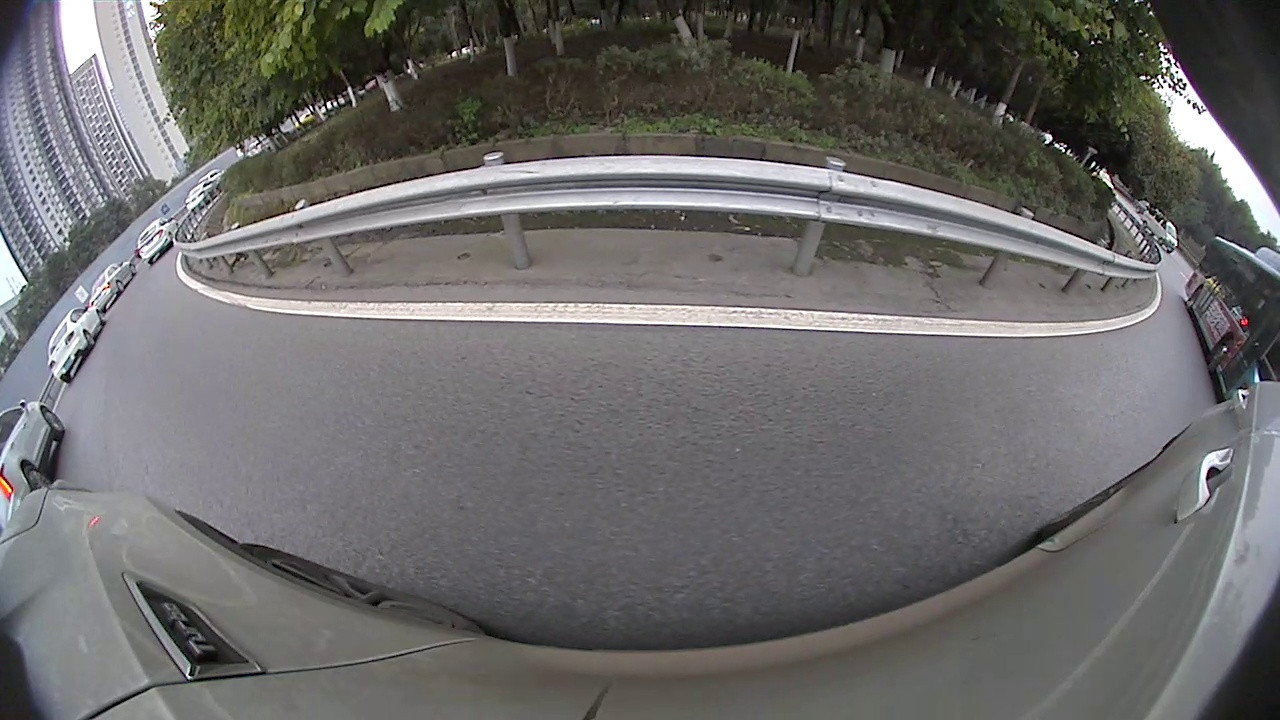bus: (1182, 228, 1278, 411)
car: (1, 398, 69, 527), (43, 303, 111, 387), (90, 257, 138, 309), (136, 214, 183, 266), (1138, 201, 1179, 256)
front: (1205, 334, 1237, 374), (40, 407, 68, 438), (95, 309, 110, 325)
rear: (21, 463, 54, 492), (1183, 286, 1203, 310), (82, 331, 96, 348), (115, 278, 127, 292)
